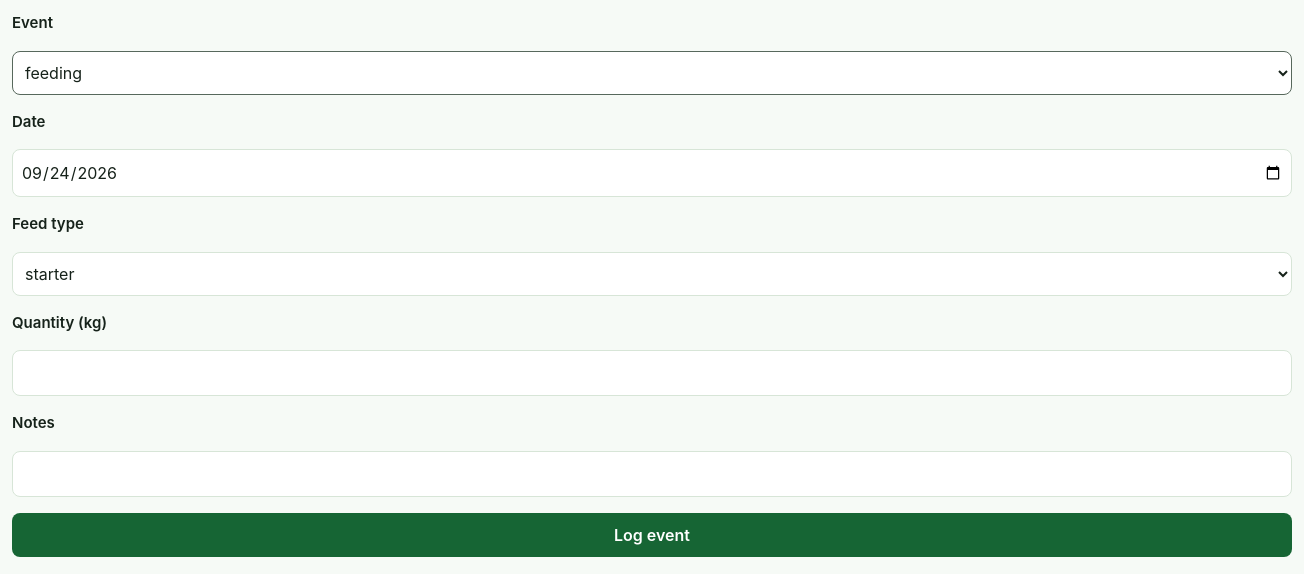
Test: EventForm › does not show feed fields for a non-feeding event type
The width and height of the screenshot is (1304, 574).
Select "vaccination" in the dropdown labelled "Event". click: (652, 72)
box: [12, 50, 1292, 94]
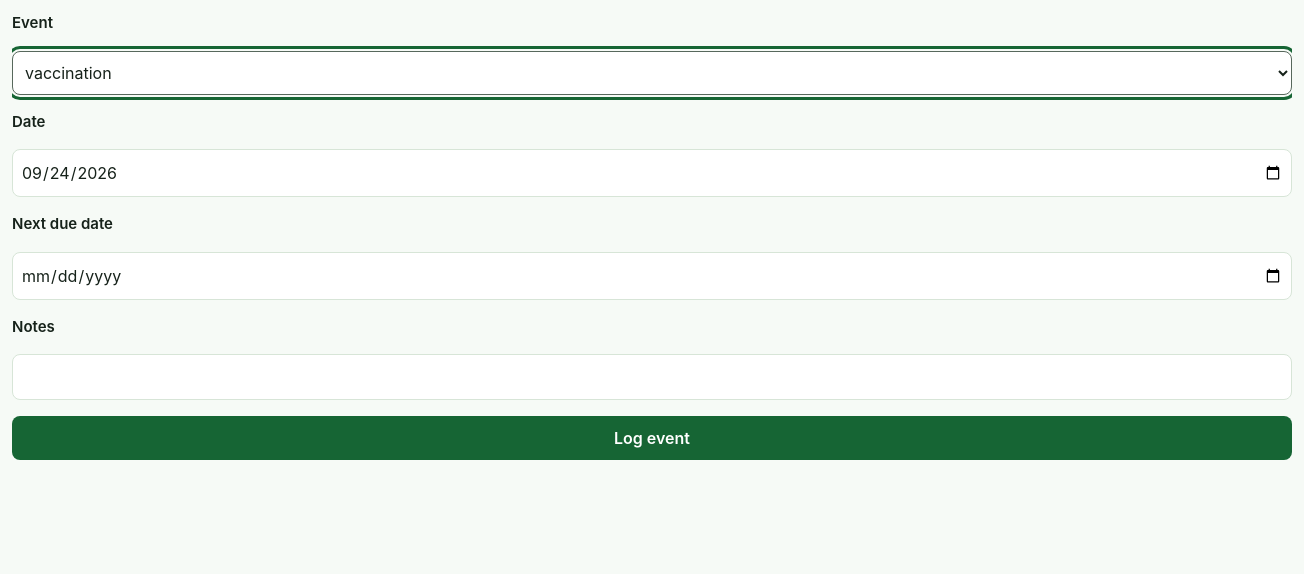
Check: the label labelled "Feed type" is gone
